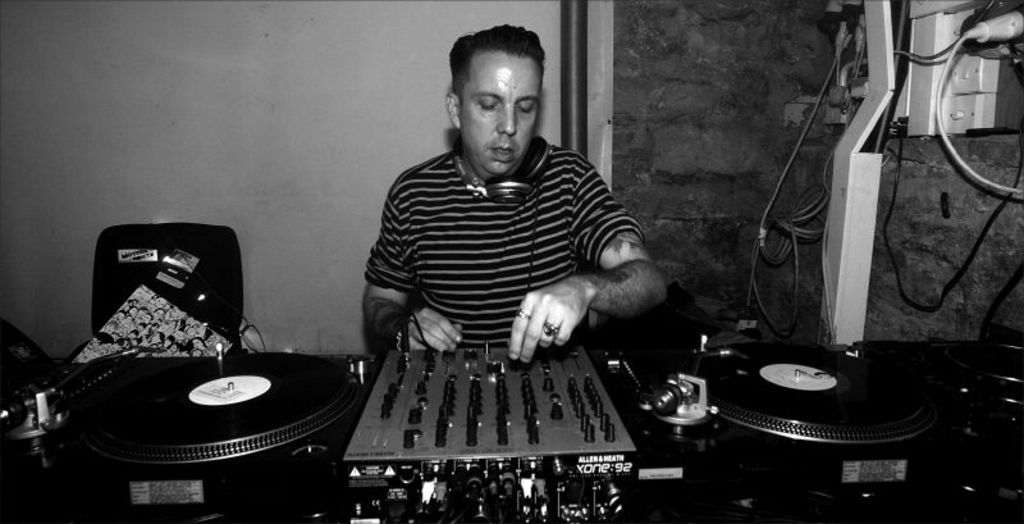face: (454, 60, 544, 166)
